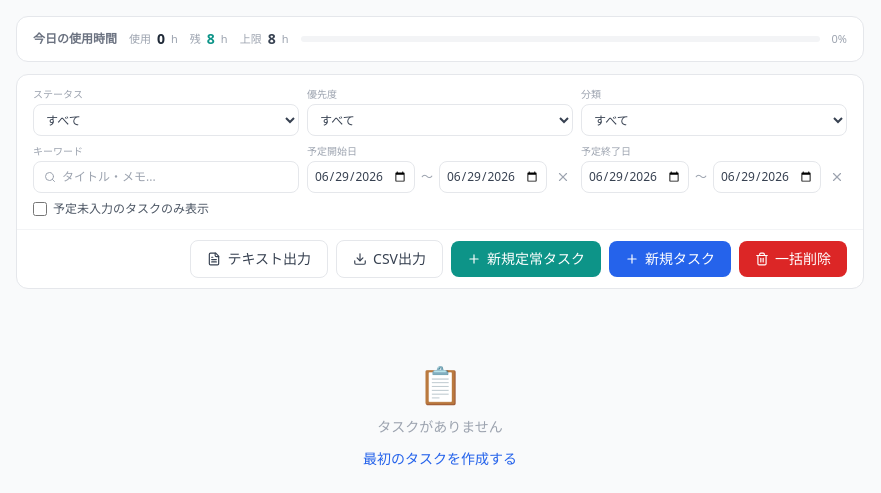
Test case: Phase4 TaskListPage bulk selection DOM › TC-CB-281 TD096 TV096 TA019 R017 TaskListPage clears selection after cancelling bulk mode
Click the button named "予定開始日フィルタをクリア". click: (563, 177)
box: [553,161,573,193]
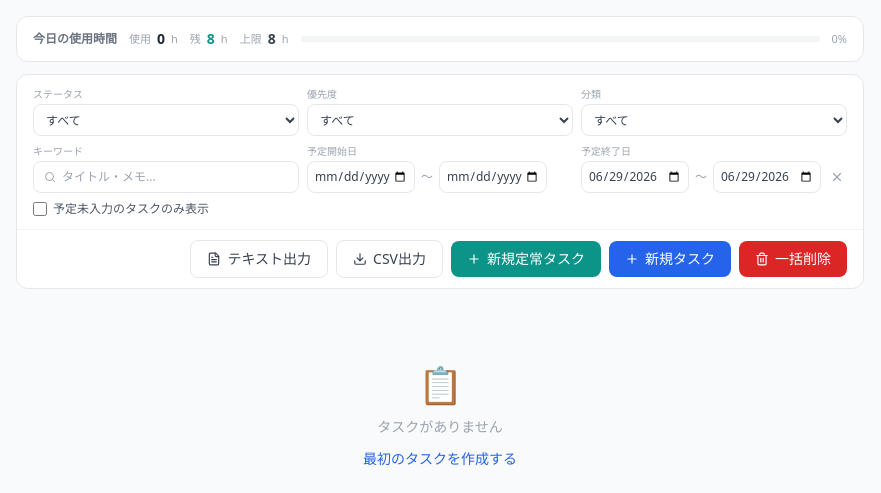
Click the button named "予定終了日フィルタをクリア". click: (837, 177)
box: [827,161,847,193]
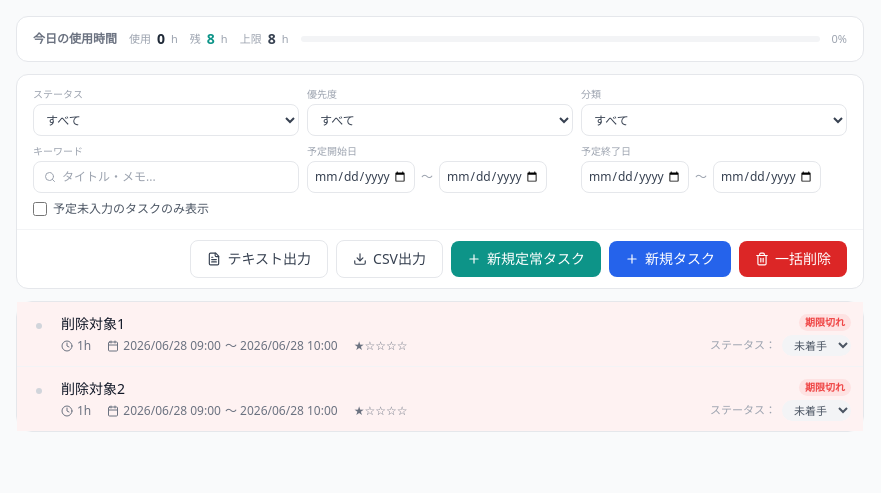
Click the button "一括削除". click: (793, 259)
box: [739,241,847,277]
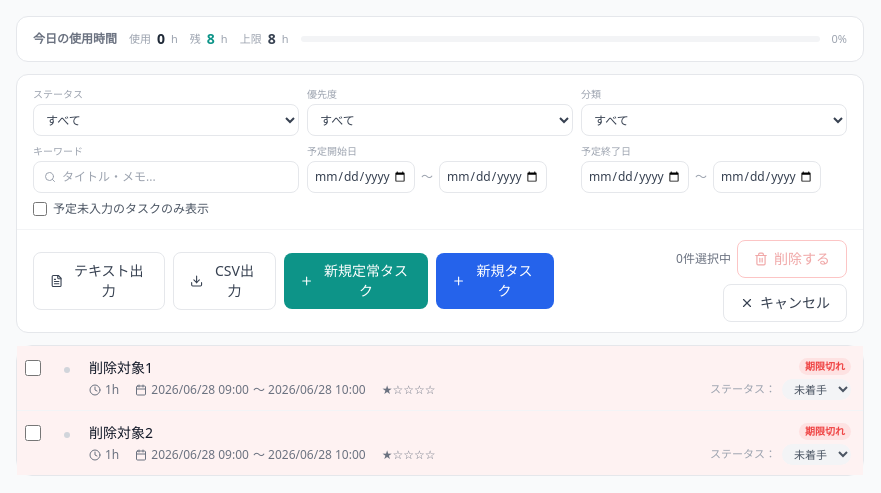
Click the checkbox next to "削除対象1". click: (33, 368)
box: [25,360,41,376]
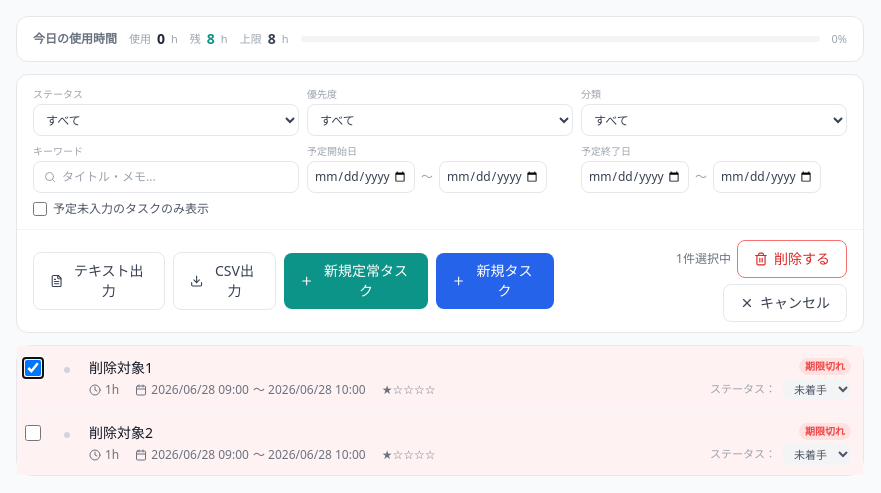
Click the button "キャンセル". click: (785, 303)
box: [723,284,847,322]
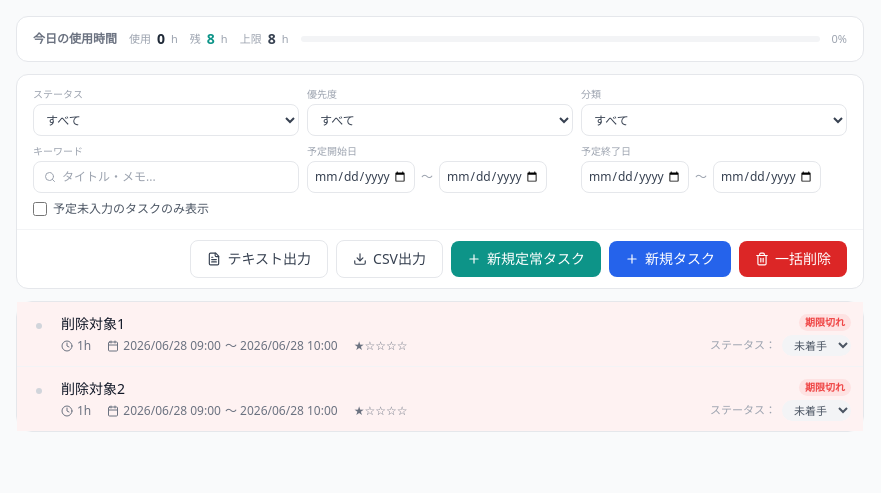
Result: the text "1件選択中" is gone
